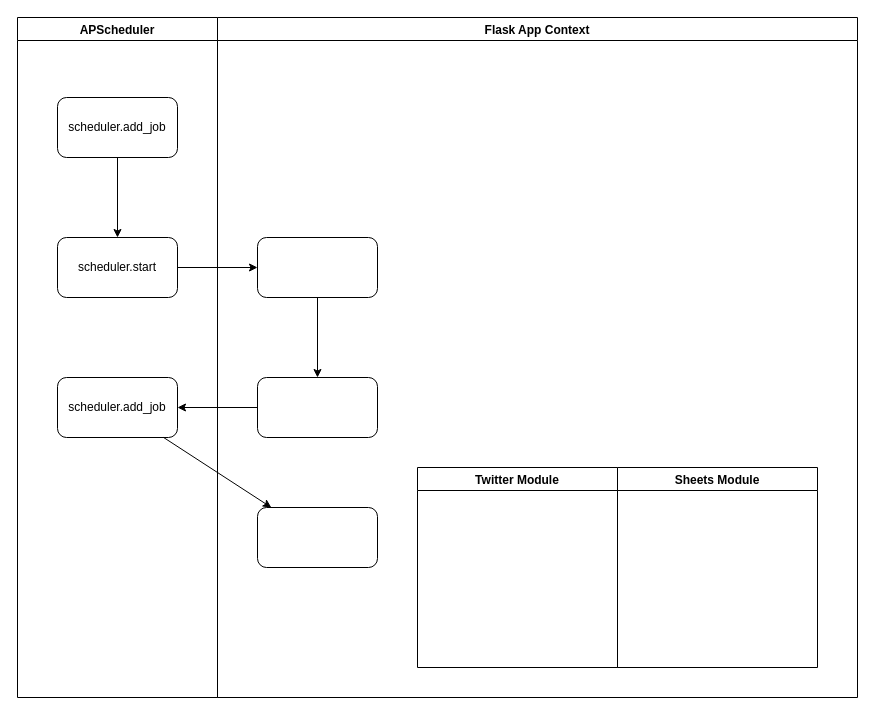
The diagram is 875 pixels wide and 715 high, and some of its shapes have lost their labels. Each missing label, with the centre of its shape:
check_sheet: pixel 317 267
dm_followers_job: pixel 317 537
start_job: pixel 317 407
